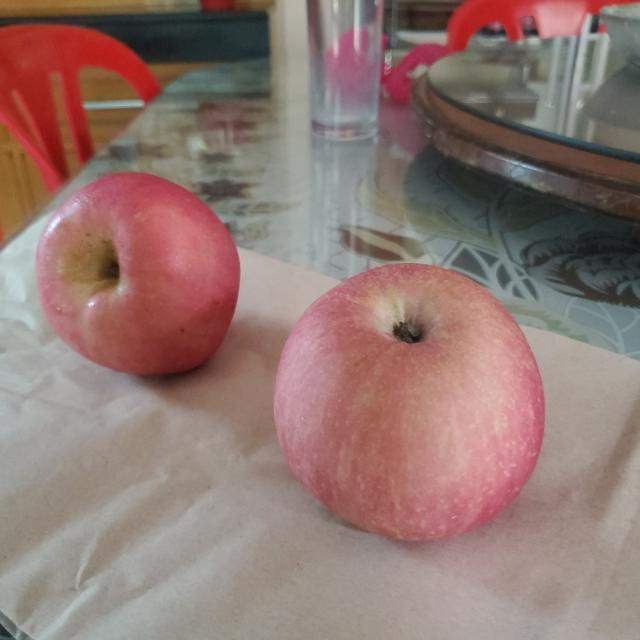apple: (276, 265, 548, 545), (37, 171, 244, 375)
